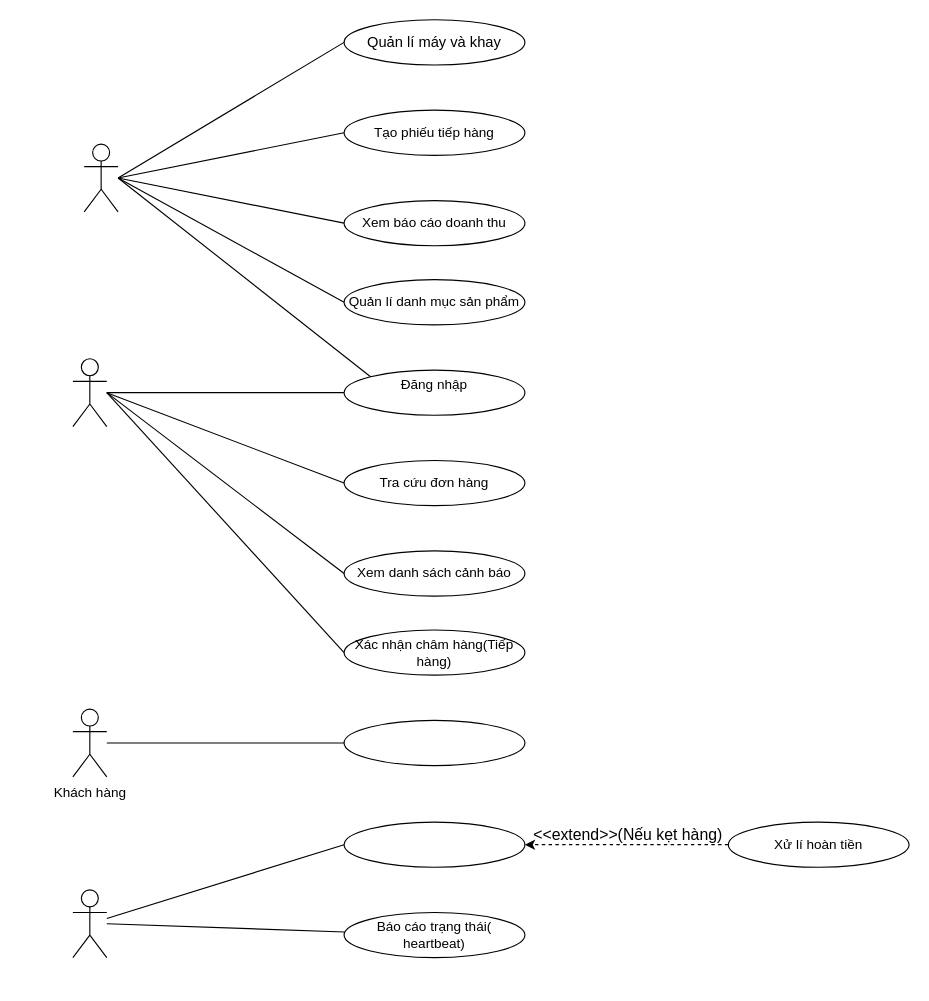
Some shapes in this 929 by 1001 pixel diagram are drawn without their labels. The shapes that lost their labels are listed below. From the top down, each one's box as (x1, y1, x2, y2) in pixels, then its label:
(83, 143, 118, 212): Admin
(72, 358, 107, 427): Nhân viên tiếp hàng
(343, 719, 525, 766): Mua hàng và thanh toán
(343, 821, 525, 867): Thực thi nhả hàng
(72, 889, 107, 958): Thiết bị(máy bán nước)
